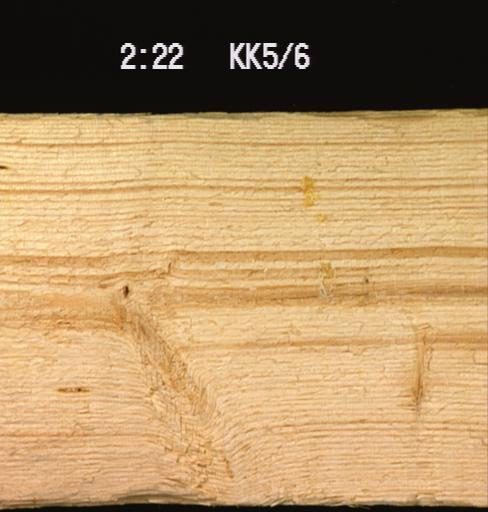wave: (48, 481, 453, 509)
